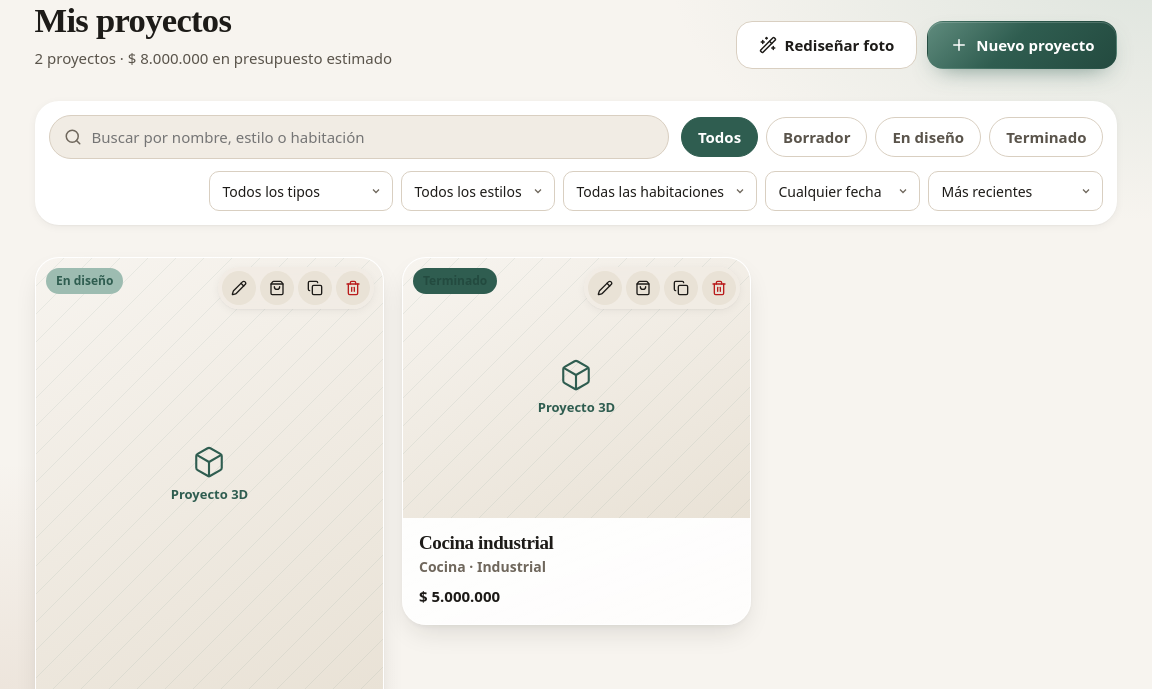
Test: Projects page › renames a project
Click the button named "Cambiar nombre de Sala nórdica".
click(238, 288)  # box [222,271,256,305]
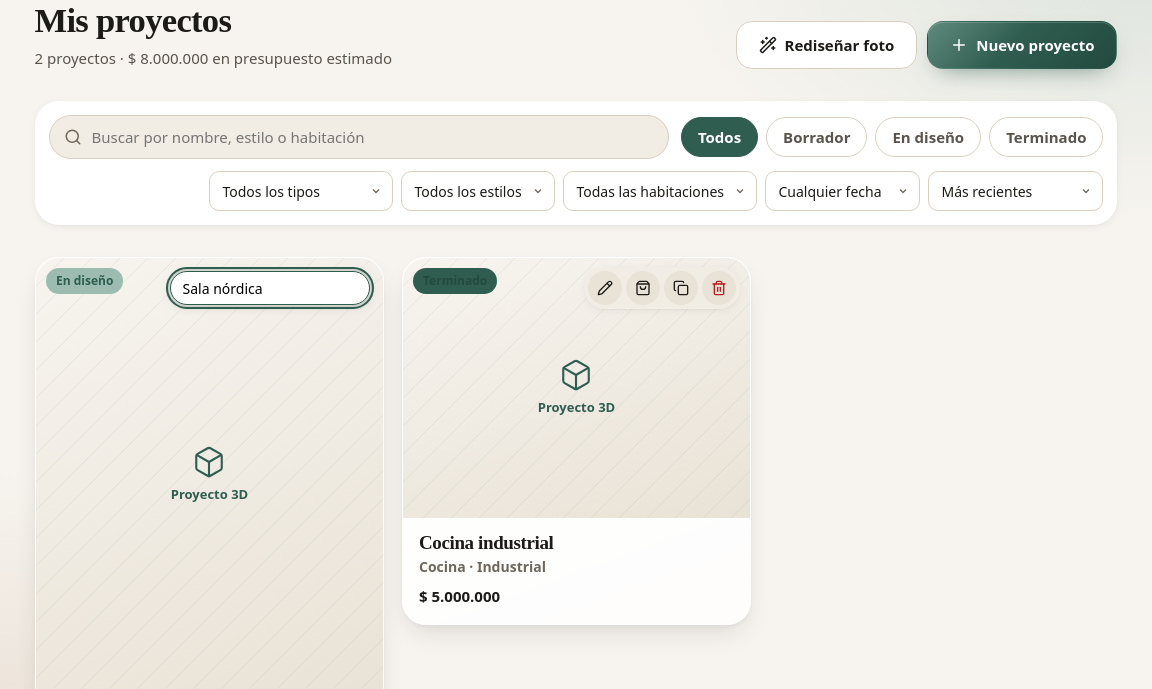
Replace the text in the field named "Nuevo nombre" with "Sala de Ana" at coordinates (270, 288), box [170,271,370,305]
Then press Enter
(page scrolled)
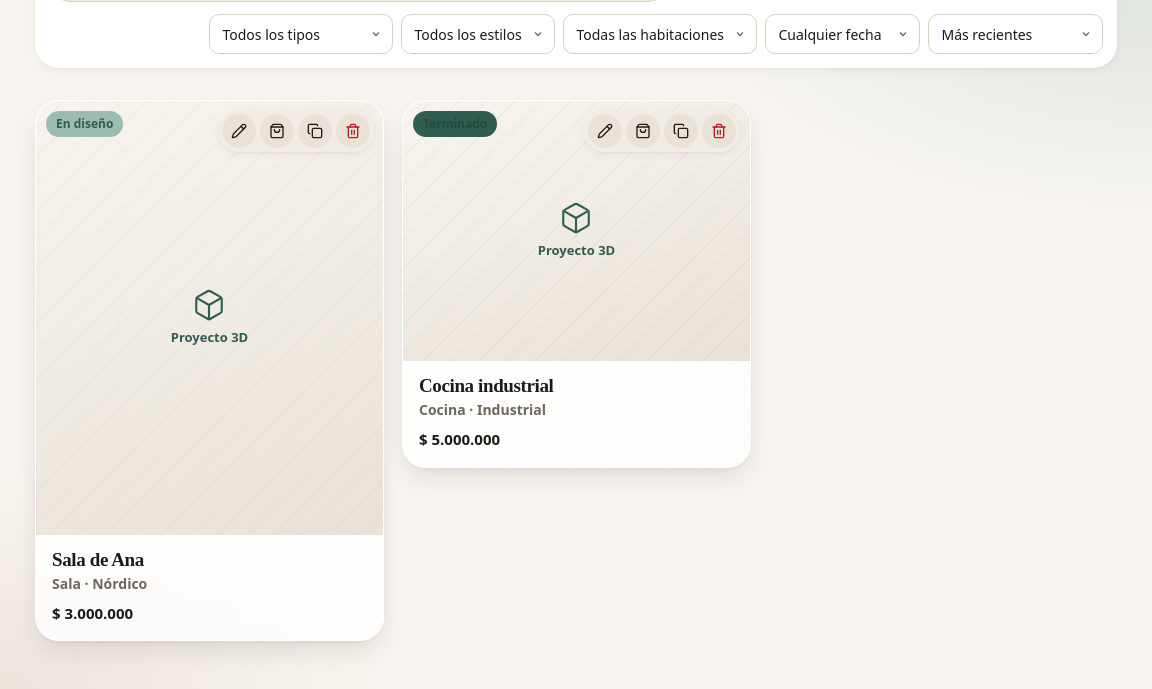
Now the heading "Sala de Ana" is shown, box [52,549,143,570]
